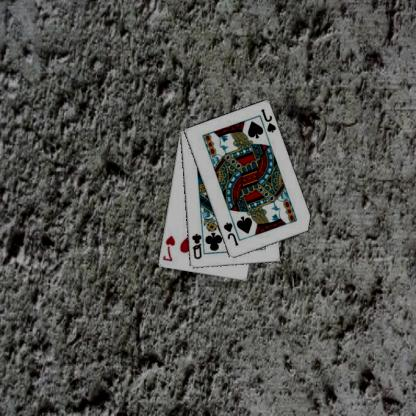7H: (162, 233, 178, 263)
JS: (260, 106, 279, 134), (223, 220, 241, 247)
QC: (191, 231, 204, 261)
